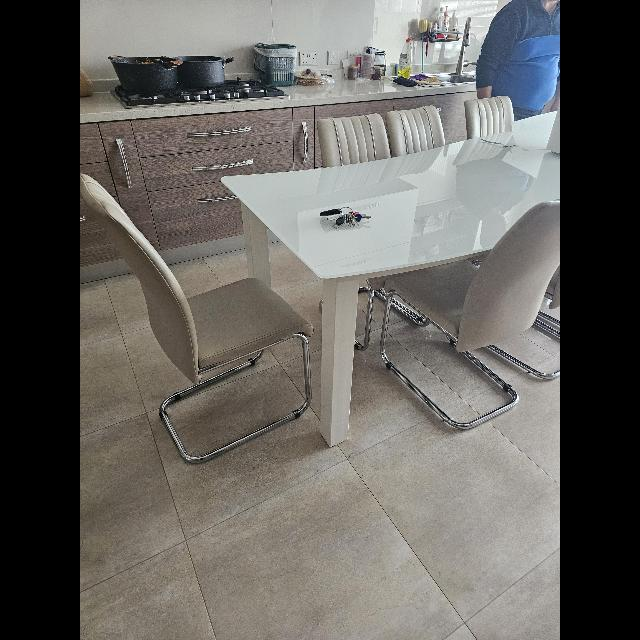Keys: (322, 208, 370, 228)
